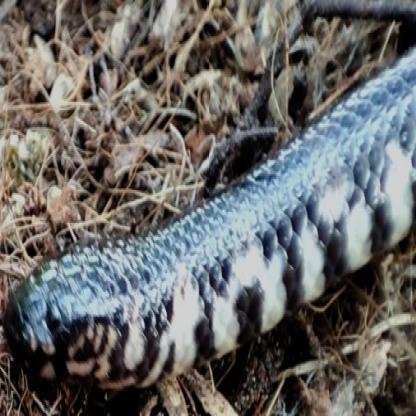Snake: (5, 11, 416, 386)
